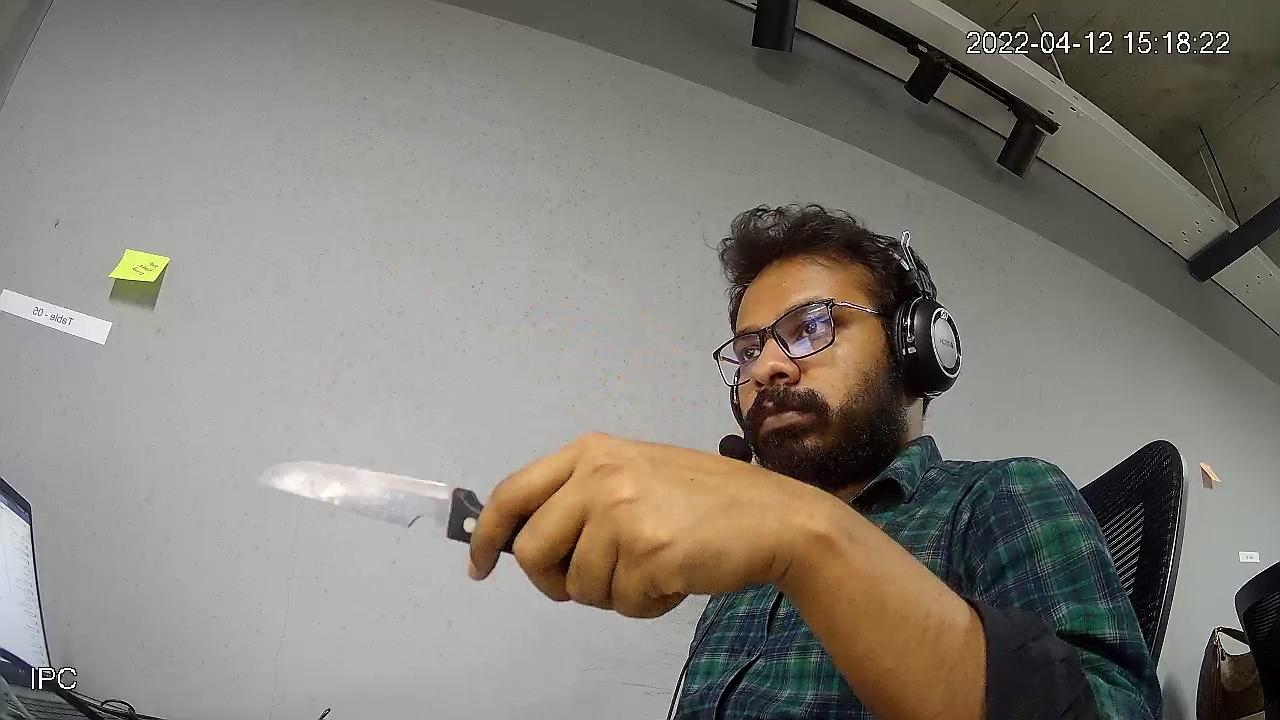knives: (242, 441, 499, 566)
